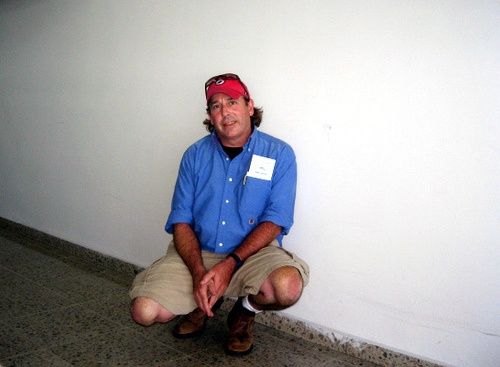head: (204, 73, 257, 142)
person: (129, 71, 304, 344)
